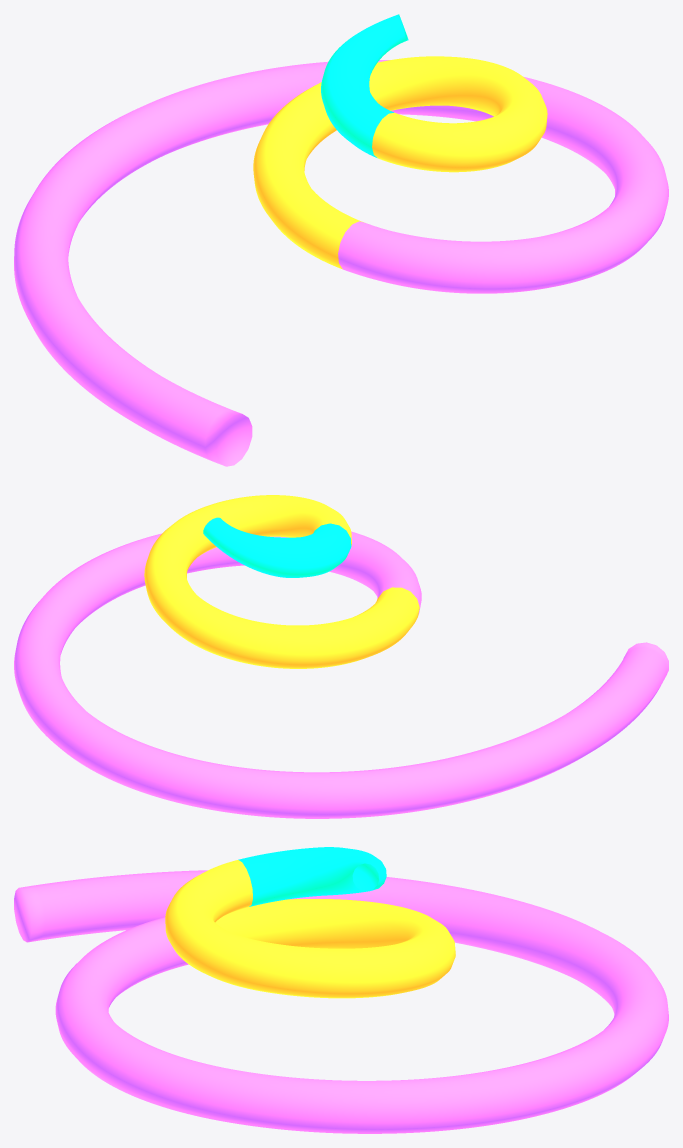
The model's file is olympicetus_noodle.glb.
3 views of the same model, one above another, from view 1: azimuth 30°, elevation 25°; view 2: azimuth 150°, elevation 25°; view 3: azimuth 270°, elevation 25° (orthographic). The views are drawn at different scales.
Parts seen in each view (by area): view 1: Olympicetus | TURN COUNT NOODLE | T00_100, Olympicetus | TURN COUNT NOODLE | T100_200, Olympicetus | TURN COUNT NOODLE | T200_PLUS; view 2: Olympicetus | TURN COUNT NOODLE | T00_100, Olympicetus | TURN COUNT NOODLE | T100_200, Olympicetus | TURN COUNT NOODLE | T200_PLUS; view 3: Olympicetus | TURN COUNT NOODLE | T00_100, Olympicetus | TURN COUNT NOODLE | T100_200, Olympicetus | TURN COUNT NOODLE | T200_PLUS.
Part boxes in pixels (x1,y1,x2,y2): Olympicetus | TURN COUNT NOODLE | T00_100: [14, 60, 668, 466]; Olympicetus | TURN COUNT NOODLE | T100_200: [253, 56, 547, 269]; Olympicetus | TURN COUNT NOODLE | T200_PLUS: [321, 14, 408, 157]; Olympicetus | TURN COUNT NOODLE | T00_100: [14, 531, 668, 818]; Olympicetus | TURN COUNT NOODLE | T100_200: [144, 495, 419, 668]; Olympicetus | TURN COUNT NOODLE | T200_PLUS: [203, 517, 351, 577]; Olympicetus | TURN COUNT NOODLE | T00_100: [14, 870, 668, 1133]; Olympicetus | TURN COUNT NOODLE | T100_200: [165, 860, 455, 998]; Olympicetus | TURN COUNT NOODLE | T200_PLUS: [238, 847, 386, 906].
Size of the model in its own units: 8.29 by 3.2 by 7.88.
